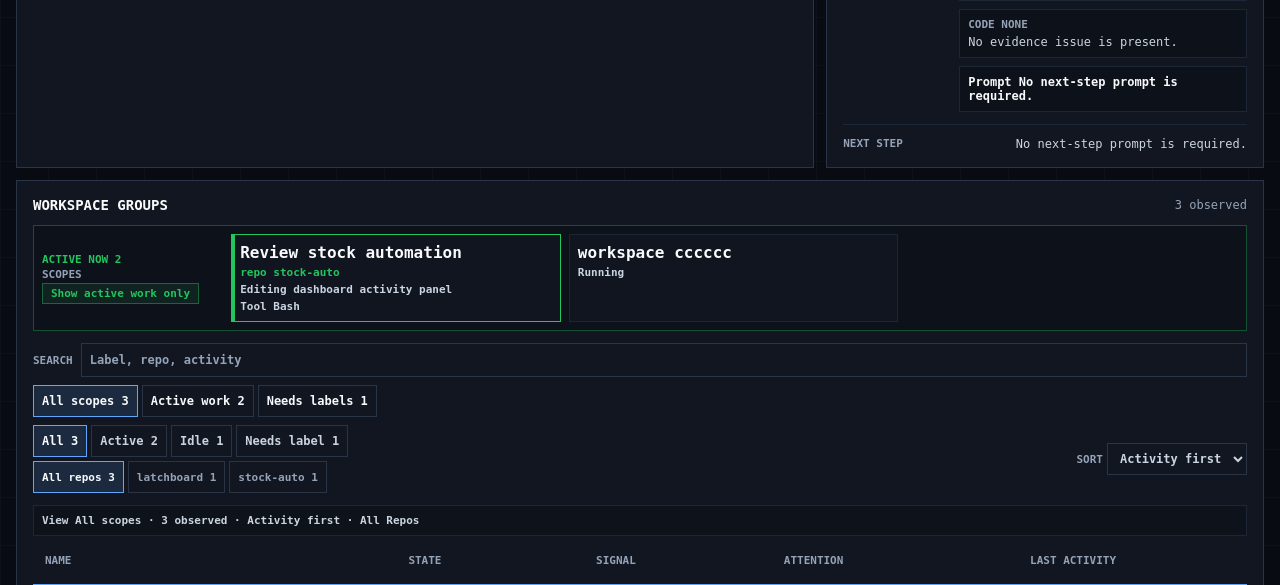
Test case: AppView › surfaces active work as a focused now strip
(page scrolled)
Check: the element labelled "Active now" shows "Active now 2", box [33,225,1247,331]
Check: the element labelled "Active now" shows "Review stock automation", box [231,234,561,322]
Type "dashboard polish" into the search field named "Search workspace groups".
click(664, 360); type("dashboard polish")  # box [81,343,1247,377]
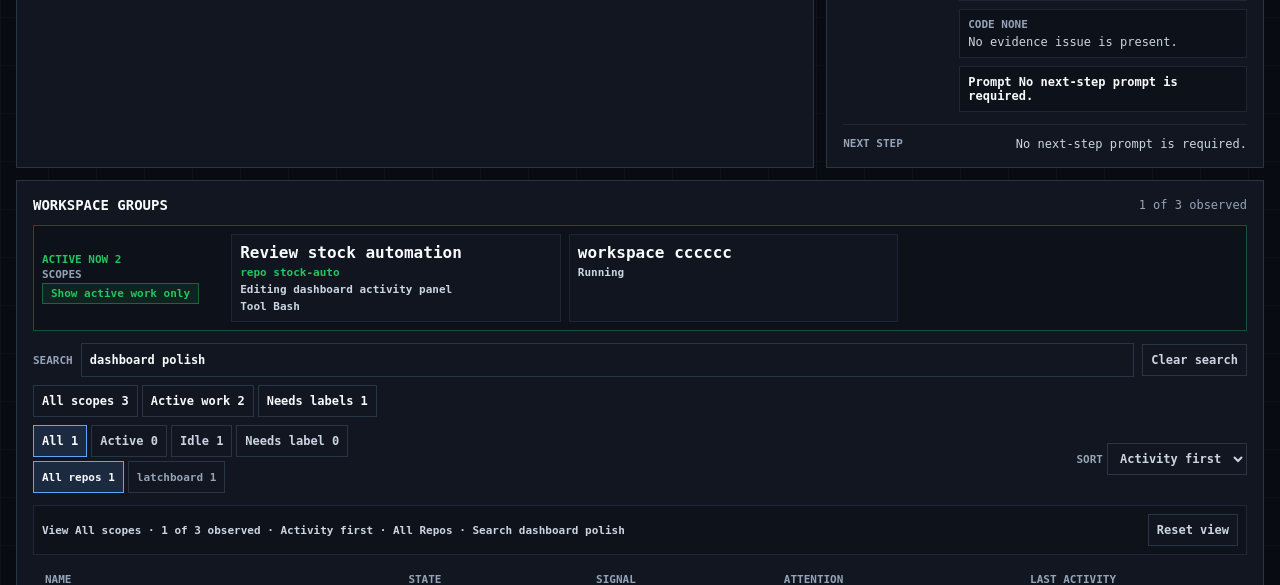
Check: the text "1 of 3 observed" is shown, box [1139,198,1247,212]
Click the button with aria-label "Focus active workspace cccccc".
click(655, 252)  # box [569,234,898,322]
(page scrolled)
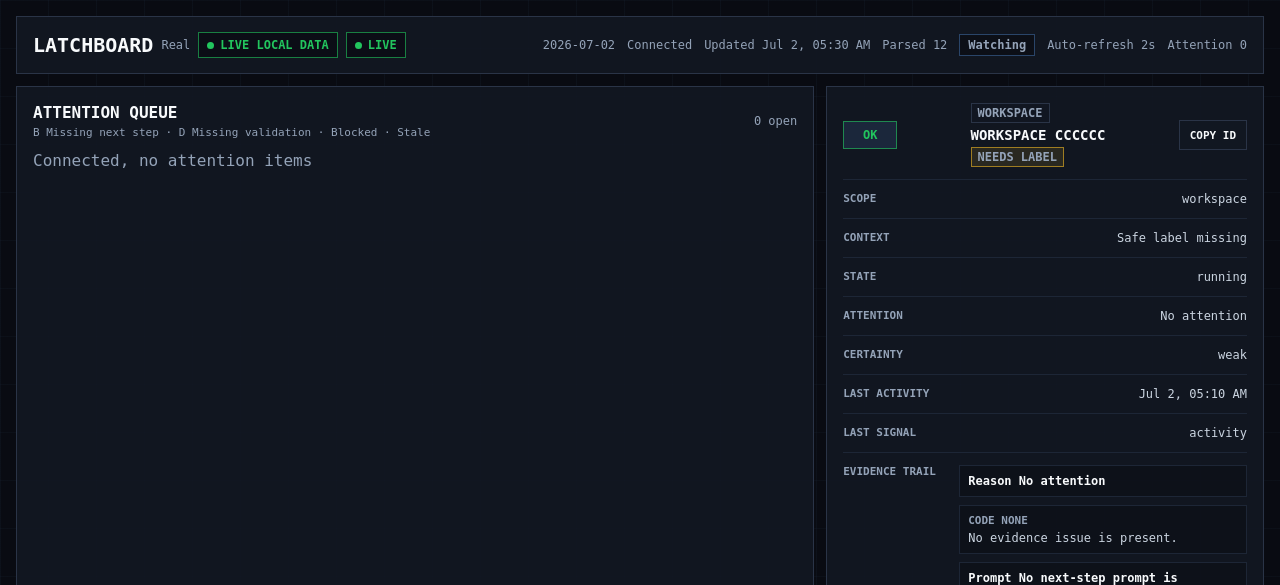
Check: the heading "workspace cccccc" is shown, box [970,127,1105,143]
